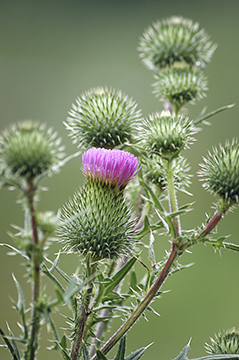thistle: (67, 146, 137, 261)
